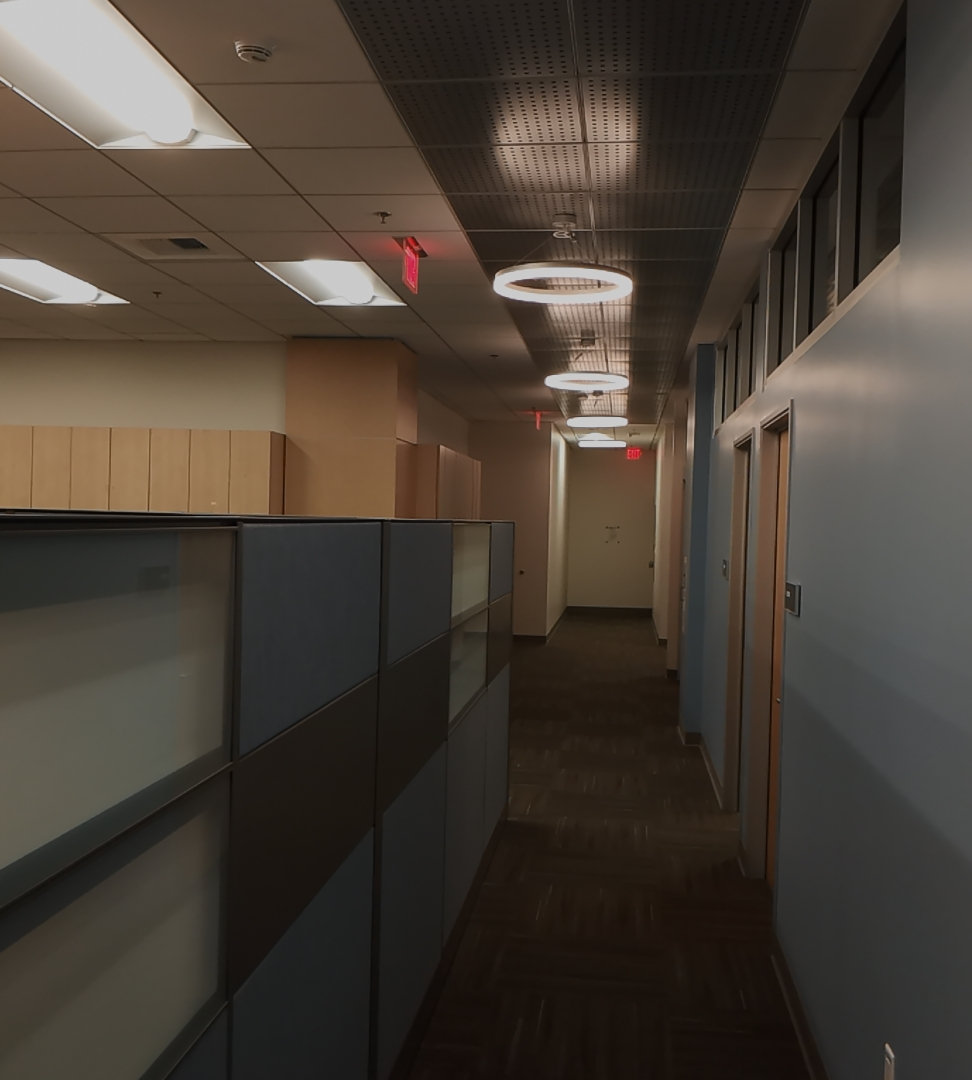emergency_exit: (391, 233, 428, 295), (624, 445, 643, 462)
